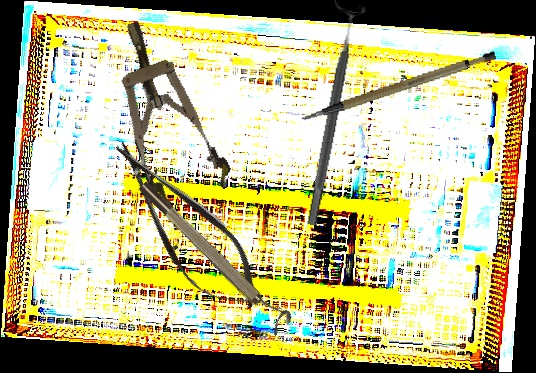Fixation Ring: (135, 172, 296, 337), (294, 0, 369, 228)
Micro Scissor: (93, 124, 276, 329)
Scalpel Handle: (294, 48, 501, 122)
Speculum: (94, 8, 237, 213)
